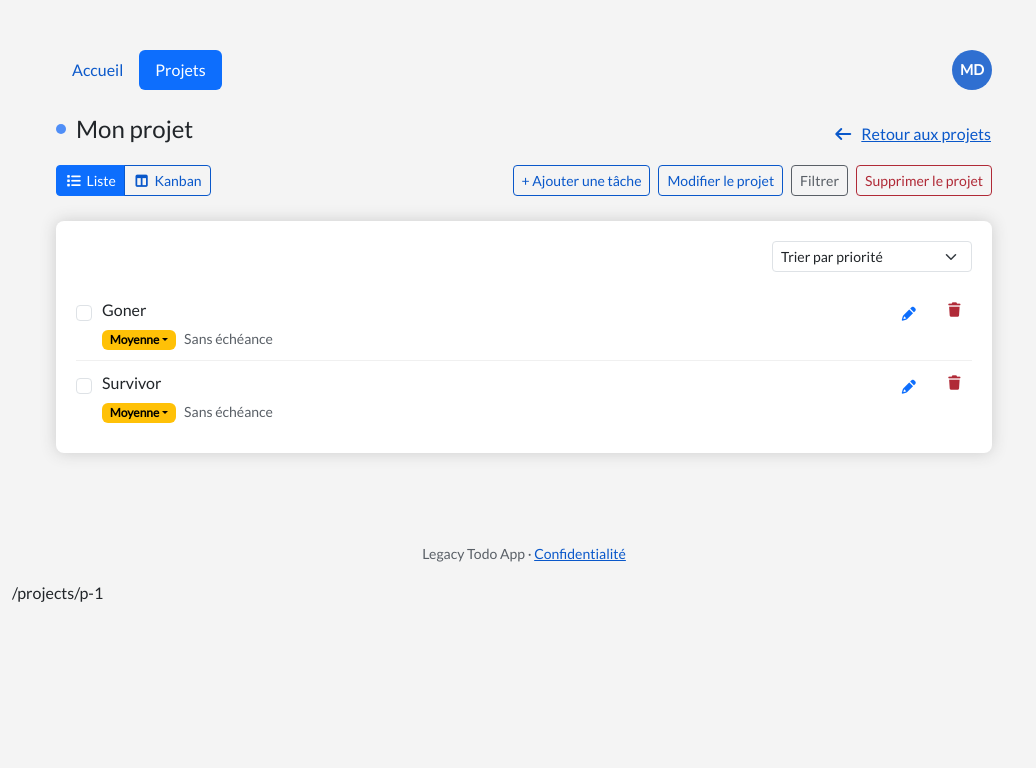
deleting a task › DELETEs the right task and removes only that row
Check: the text "Goner" is shown, box [102, 300, 146, 319]
Click the button named "Supprimer la tâche" at (954, 310), box [936, 294, 972, 325]
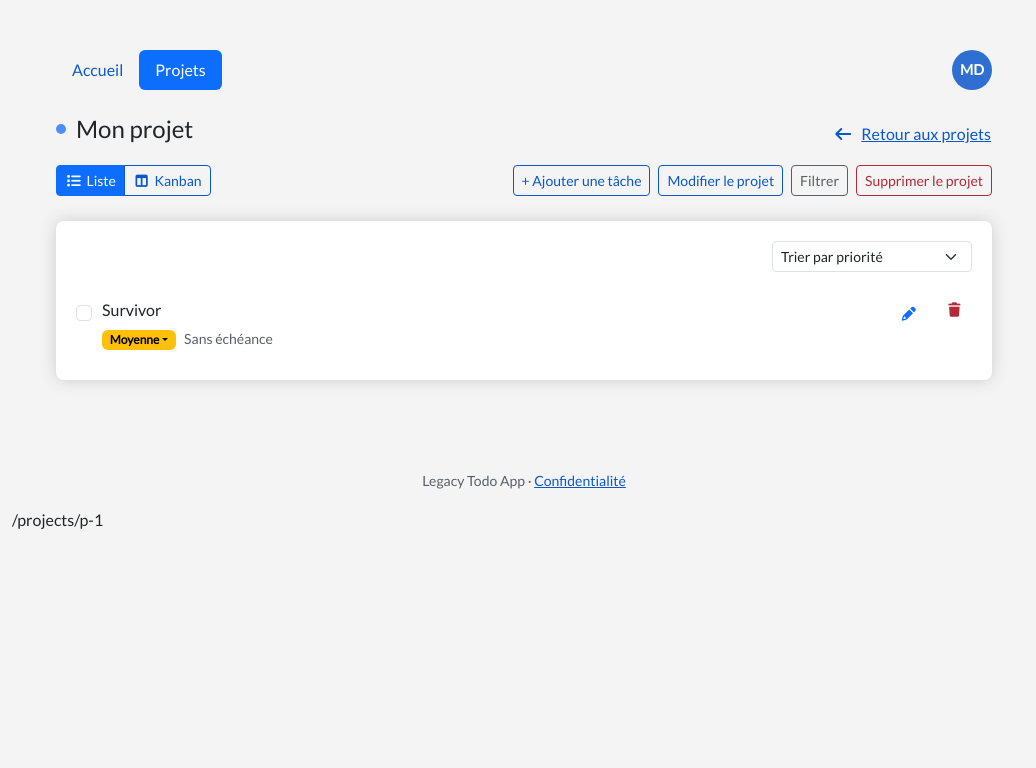
Check: the text "Survivor" is shown, box [102, 300, 162, 319]
Check: the text "Goner" is gone
